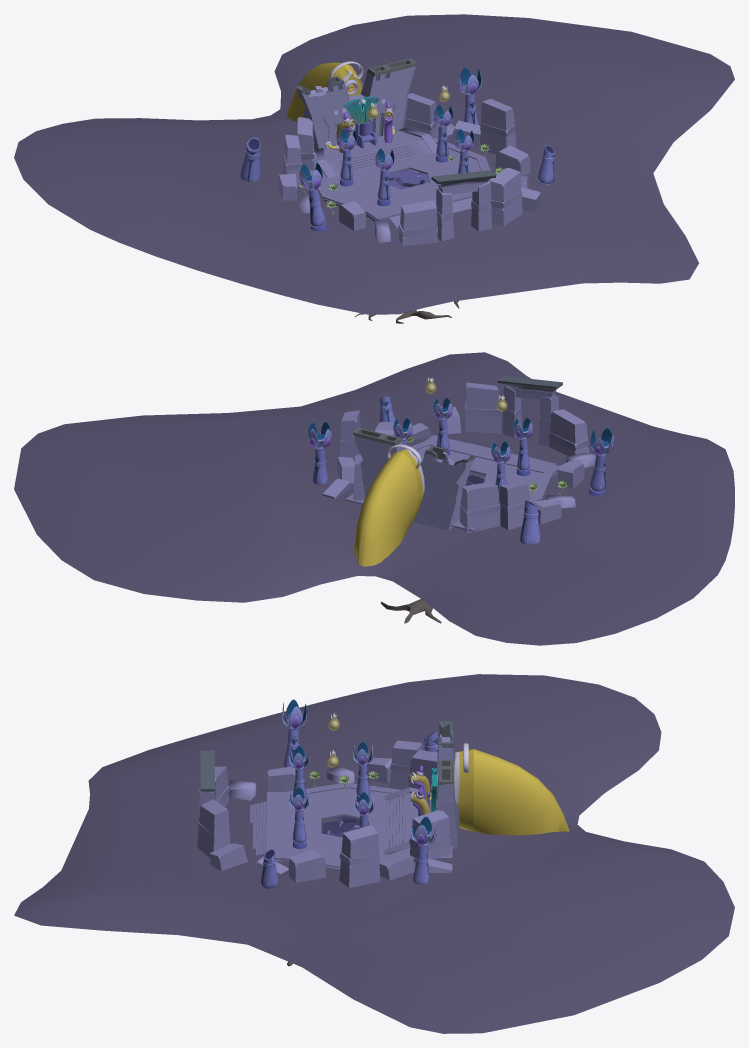
The model's file is BossEnvironment_final.fbx.
3 renders of one model, top to bottom at view 1: azimuth 30°, elevation 25°; view 2: azimuth 150°, elevation 25°; view 3: azimuth 270°, elevation 25°, orthographic. The views are drawn at different scales.
Parts seen in each view (by area): view 1: Sand, Wall, Ground, Gate, polySurface15, Pillair5, Pillair7, Pillair6, Pillair:Pillair2, Pillair4, Pillair3, ThroneDecor:Decor (+2 smaller); view 2: Sand, Wall, polySurface15, Gate, Ground, Pillair5, Pillair7, Pillair:Pillair2, Pillair6, Pillair2, Pillair4, Treestump; view 3: Sand, Wall, Ground, polySurface15, Gate, Pillair7, Pillair5, Pillair2, Pillair4, Pillair:Pillair2.
Part boxes in pixels (x1,y1,x2,y2): Sand: [14, 14, 734, 314]; Wall: [279, 93, 540, 245]; Ground: [309, 127, 492, 228]; Gate: [296, 58, 417, 152]; polySurface15: [286, 62, 363, 121]; Pillair5: [298, 162, 326, 231]; Pillair7: [457, 67, 481, 125]; Pillair6: [240, 137, 260, 181]; Pillair:Pillair2: [375, 148, 394, 205]; Pillair4: [337, 128, 357, 186]; Pillair3: [433, 104, 453, 162]; ThroneDecor:Decor: [343, 96, 379, 132]; Sand: [14, 352, 734, 645]; Wall: [322, 376, 595, 533]; polySurface15: [354, 449, 424, 566]; Gate: [353, 427, 475, 530]; Ground: [345, 435, 559, 531]; Pillair5: [589, 427, 614, 495]; Pillair7: [307, 421, 331, 484]; Pillair:Pillair2: [513, 417, 532, 475]; Pillair6: [519, 500, 540, 544]; Pillair2: [433, 397, 452, 455]; Pillair4: [491, 441, 510, 499]; Treestump: [380, 599, 441, 623]; Sand: [14, 674, 734, 1033]; Wall: [197, 740, 452, 887]; Ground: [250, 782, 452, 869]; polySurface15: [454, 749, 569, 835]; Gate: [435, 721, 457, 848]; Pillair7: [411, 816, 436, 884]; Pillair5: [281, 699, 306, 768]; Pillair2: [289, 787, 309, 848]; Pillair4: [353, 741, 373, 801]; Pillair:Pillair2: [289, 745, 309, 806].
Size of the model in its own units: 5540 by 1586 by 4862.
